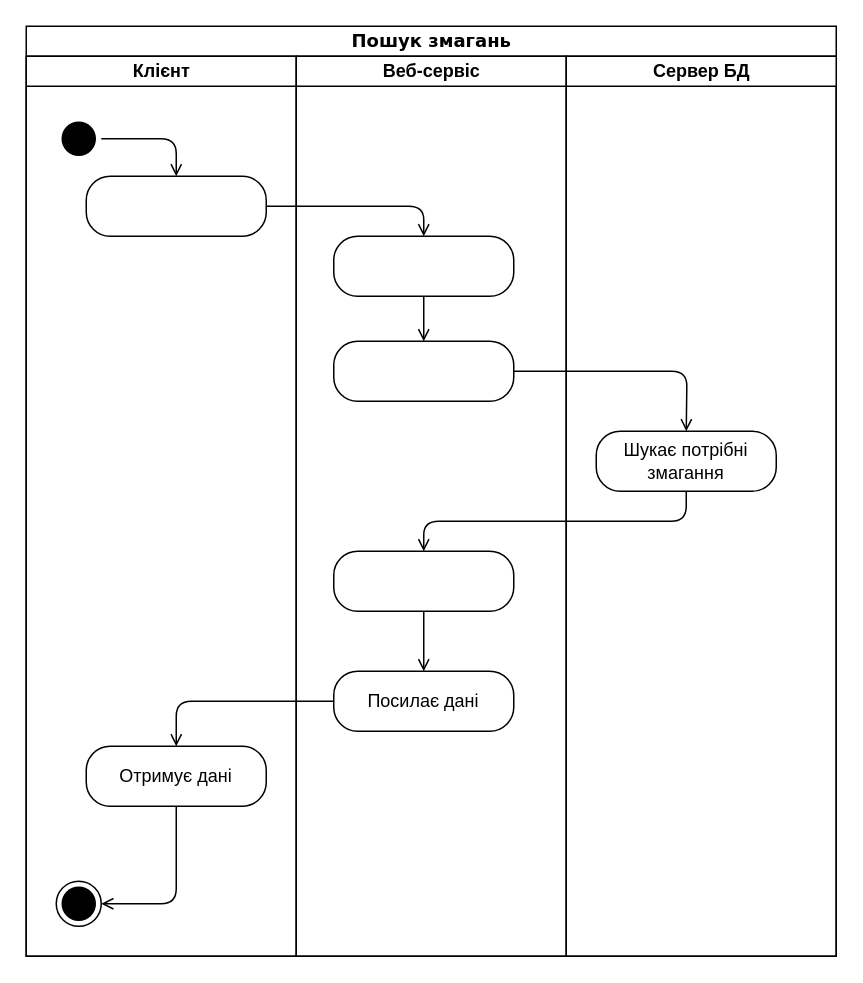
The diagram is 863 pixels wide and 983 high, and some of its shapes have lost their labels. The shapes that lost their labels are listed below. From the top down, each one's centre as x and y in pixels, then its label:
the point at 175,205: Введення умов для пошуку
the point at 423,265: Обробка умов
the point at 423,370: Запит до БД
the point at 423,580: Обробляє дані
